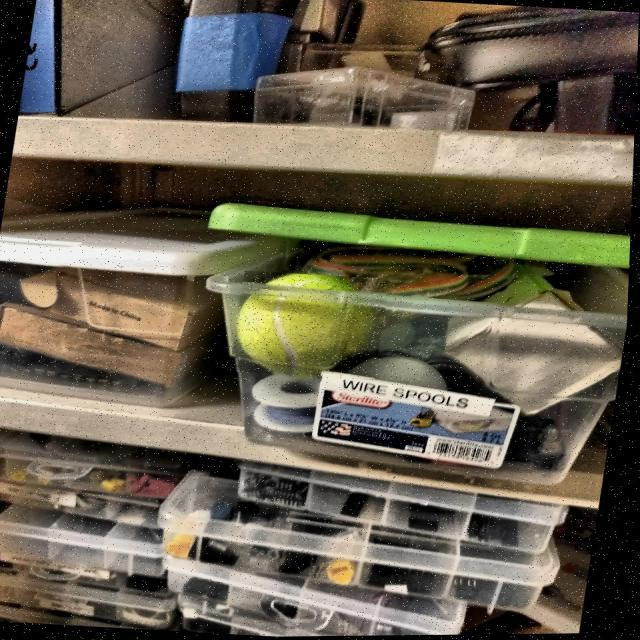tennis-ball: (232, 271, 394, 384)
